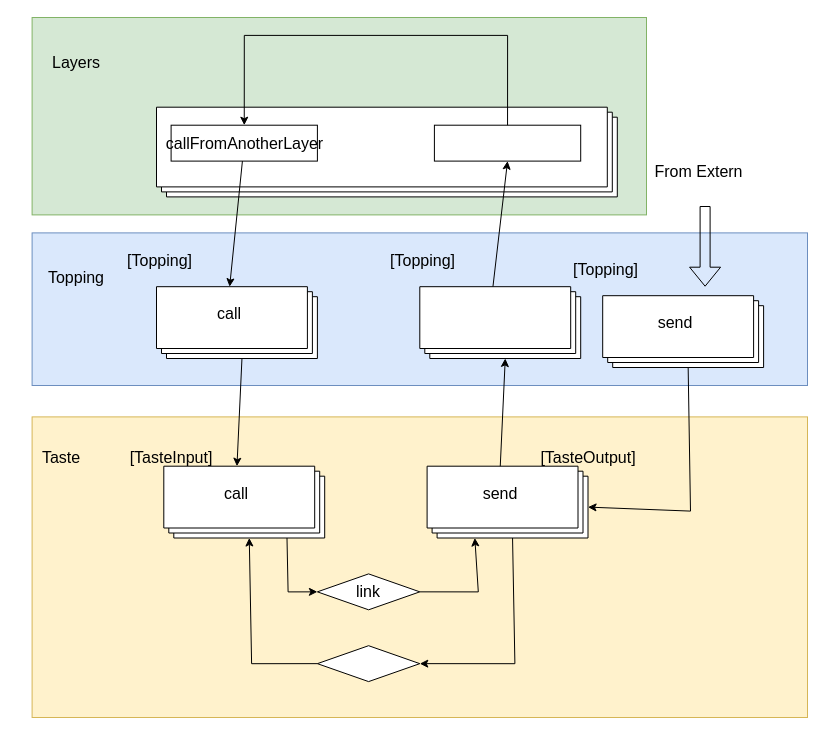
Image size: 825x735. Some labels were removed from this diagram. Each missing label, with the centre of its shape:
"connect" goes at (x=368, y=663).
"sendFromTaste" goes at (x=500, y=322).
"sendToAnotherlayer" goes at (x=507, y=142).
